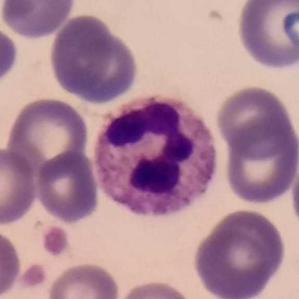Neutrophil: (86, 83, 222, 224)
Platelets: (41, 224, 71, 259), (18, 260, 48, 290)
RBC: (190, 206, 289, 299), (46, 12, 142, 106), (221, 114, 299, 206), (4, 95, 91, 175), (214, 83, 296, 160), (33, 148, 101, 225), (234, 0, 299, 73), (0, 145, 40, 227), (2, 0, 80, 41), (45, 260, 121, 299), (113, 278, 197, 299), (0, 225, 23, 299), (0, 20, 21, 89), (288, 154, 299, 237)
